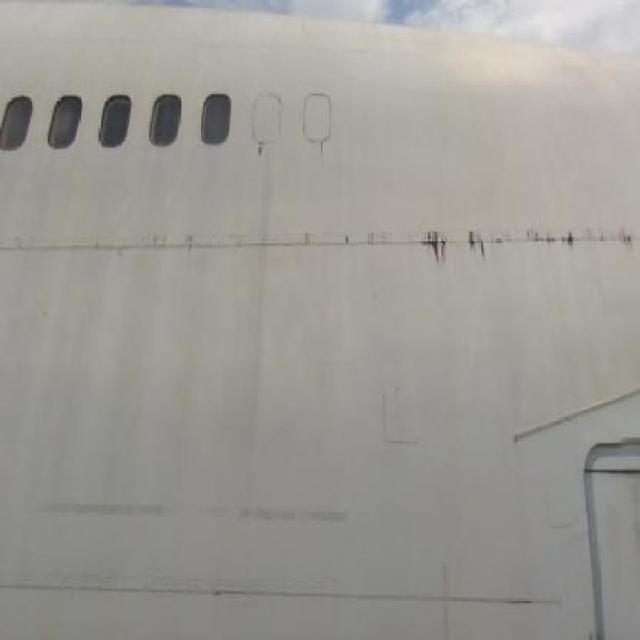Rust: (416, 224, 638, 279), (314, 138, 331, 164), (256, 142, 270, 160)
Scartch: (24, 485, 358, 546)
